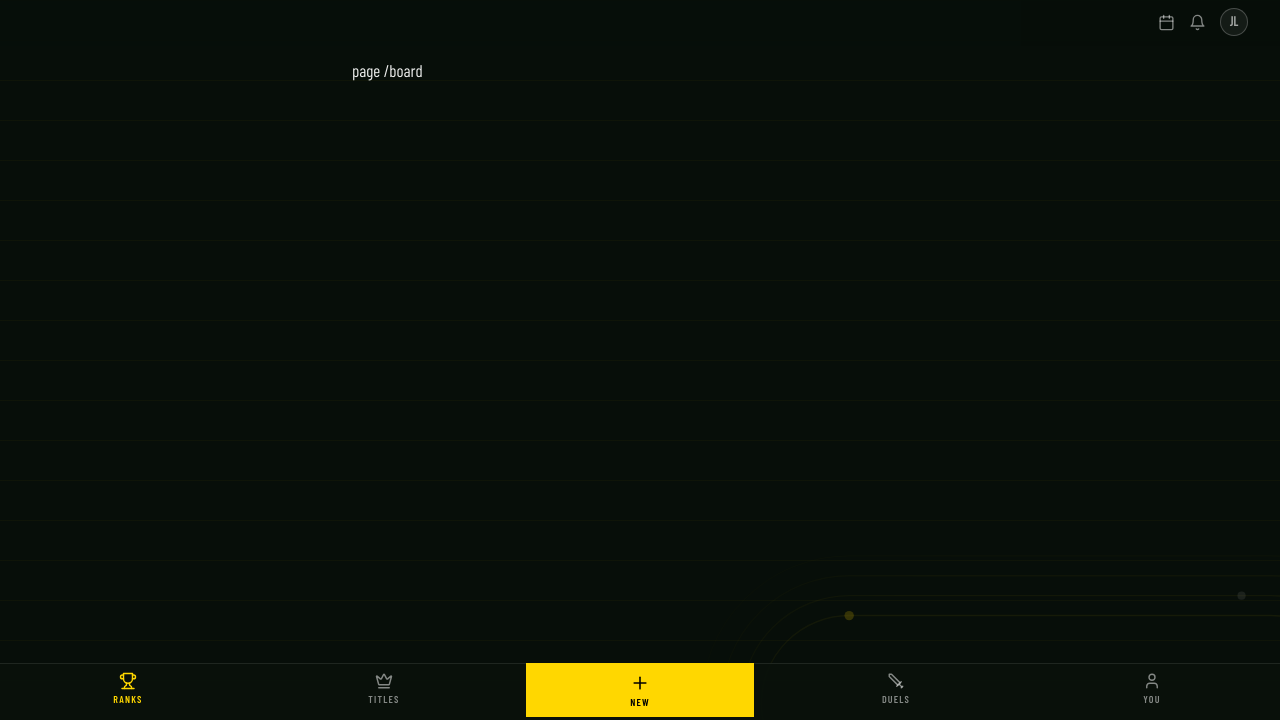
Test: AvatarMenu › mobil: Playbook, Feature & Version och Settings; level och placering ur leaderboard-datan
Click the button with aria-label "Account menu" at (1234, 22), box [1220, 8, 1248, 36]
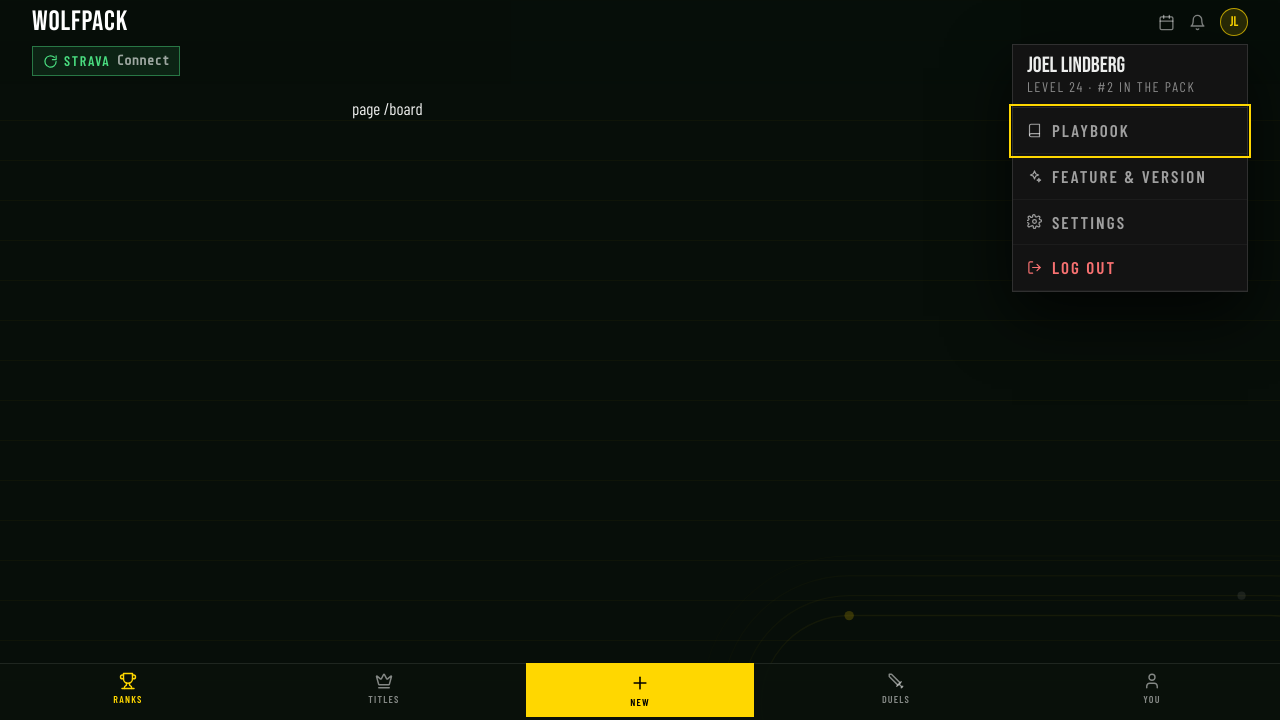
Now the button "Playbook" is shown, box [1013, 108, 1247, 154]
Now the button "Feature & Version" is shown, box [1013, 154, 1247, 200]
Now the button "Settings" is shown, box [1013, 200, 1247, 245]
